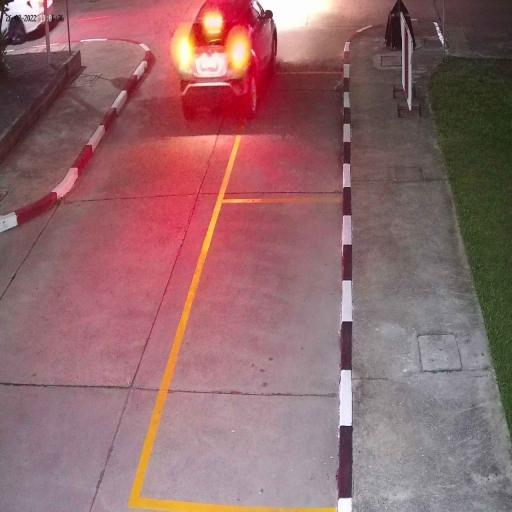car: (178, 0, 278, 125)
